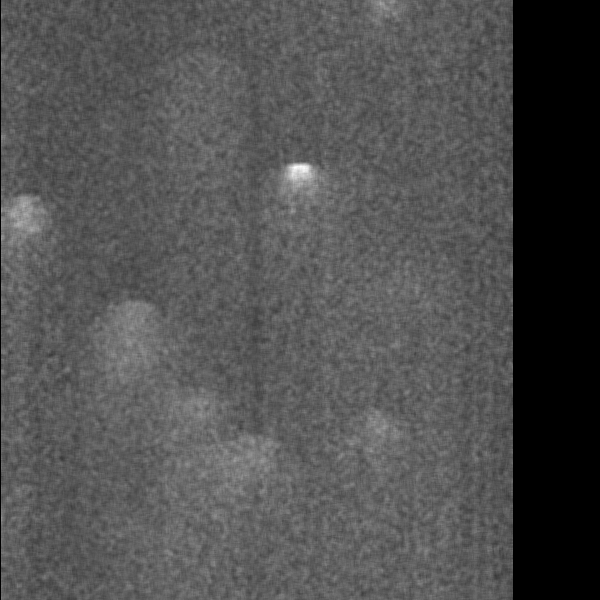spark: (98, 288, 137, 418), (274, 156, 320, 240), (354, 410, 411, 468), (5, 191, 39, 272), (176, 391, 222, 428)
